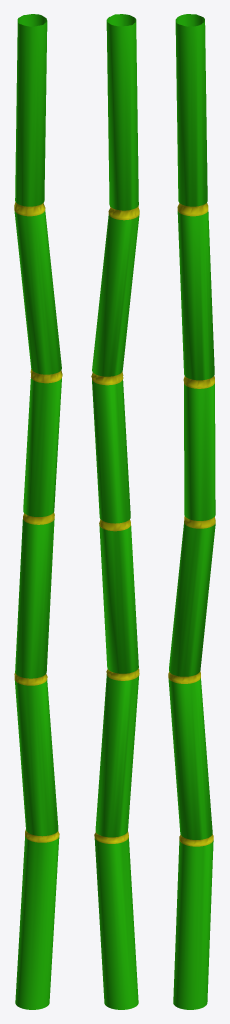
Rendered from bamboo 1.fbx.
3 renders of one model, left to right at view 1: azimuth 30°, elevation 25°; view 2: azimuth 210°, elevation 25°; view 3: azimuth 330°, elevation 25°, orthographic.
Parts seen in each view (by area): view 1: Bamboo_LOD0; view 2: Bamboo_LOD0; view 3: Bamboo_LOD0.
Boxes of the visible parts, x1,y1,x2,y2 form: Bamboo_LOD0: [14, 14, 62, 1009]; Bamboo_LOD0: [91, 14, 139, 1009]; Bamboo_LOD0: [168, 14, 215, 1009].
Size of what is drawn, in the model's own units: 51.3 by 1104 by 42.49.
